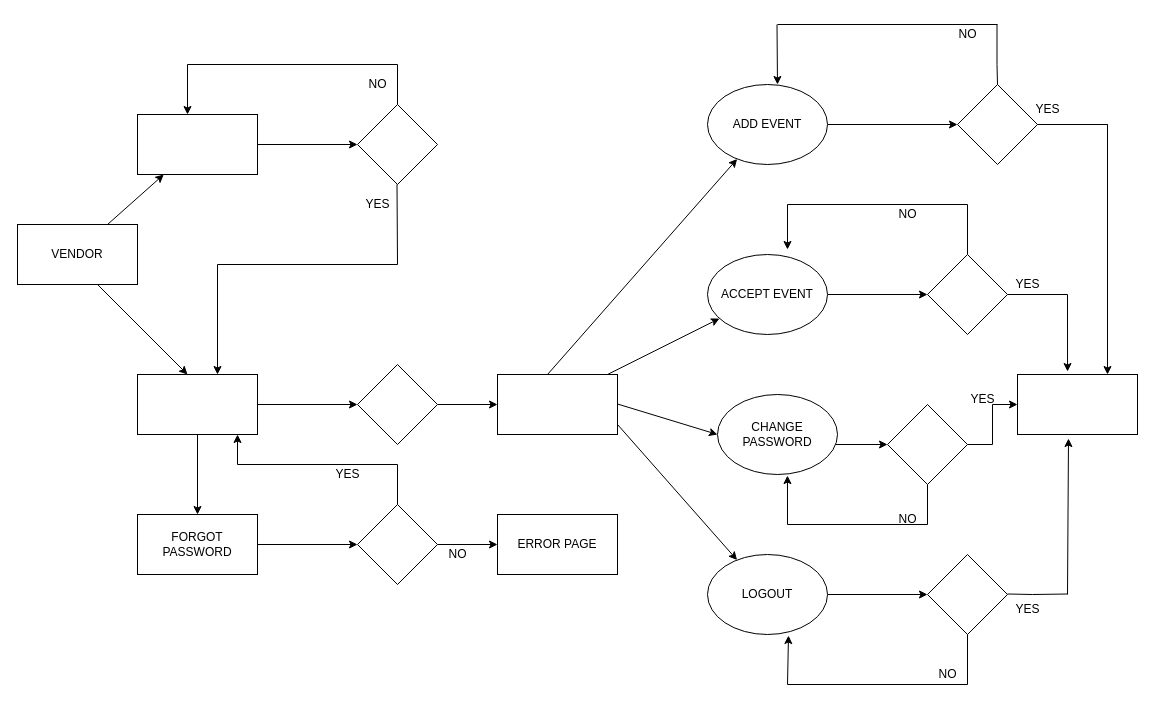
This 1155x710 diagram has some shape labels left out. The box of each missing label's shape, as (x1, y1, x2, y2) in pixels:
LOGIN: (136, 374, 258, 434)
REGISTER: (136, 114, 258, 174)
SUCCESS: (1016, 374, 1138, 434)
VENDOR DASHBOARD: (496, 374, 618, 434)
